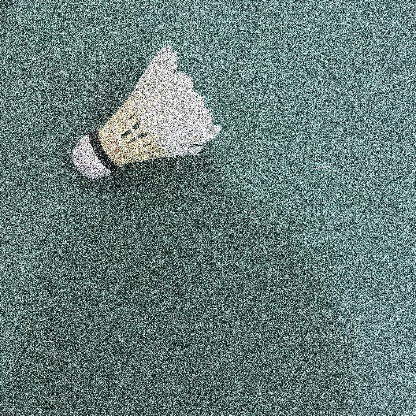ball_single: (73, 46, 221, 179)
